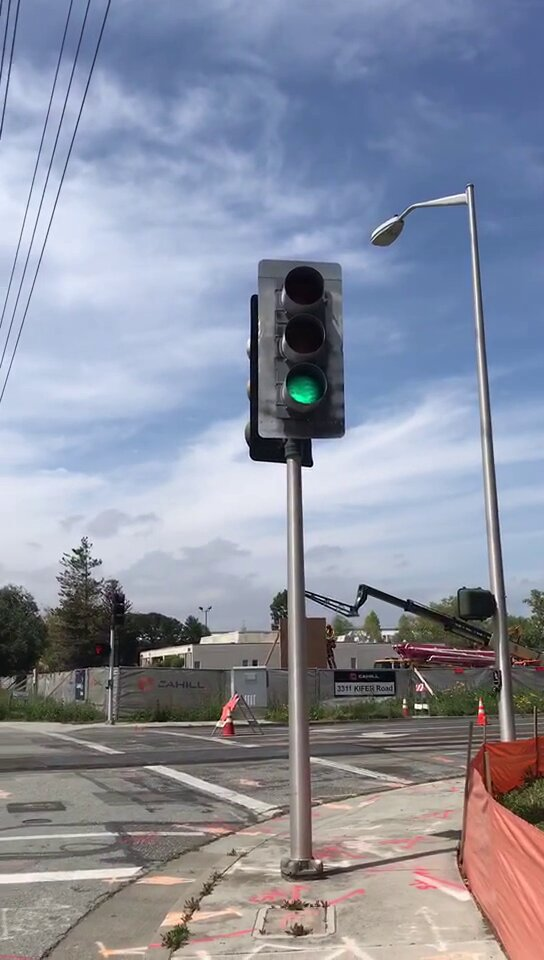green_light: (260, 262, 341, 437)
